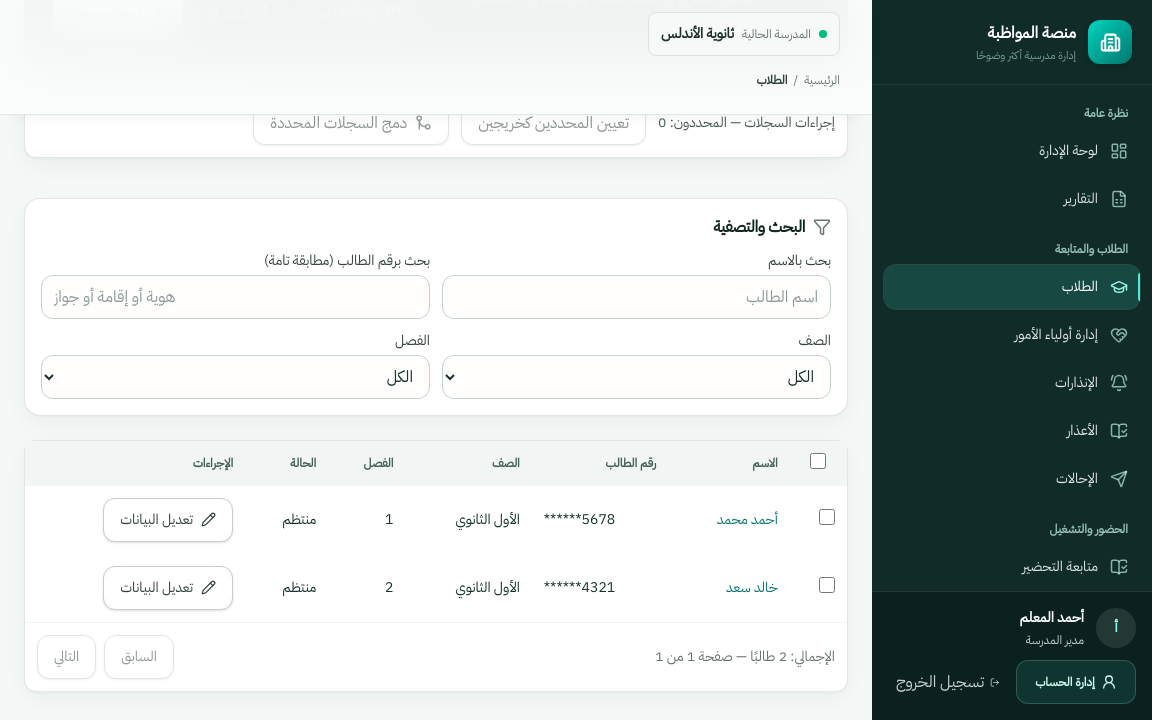
it: StudentsPage › lets the manager correct student data and national id without exposing the old id
(page scrolled)
Step 1. Click the button "تعديل البيانات" in the row of "أحمد محمد" → (168, 520), box [103,498,233,542]
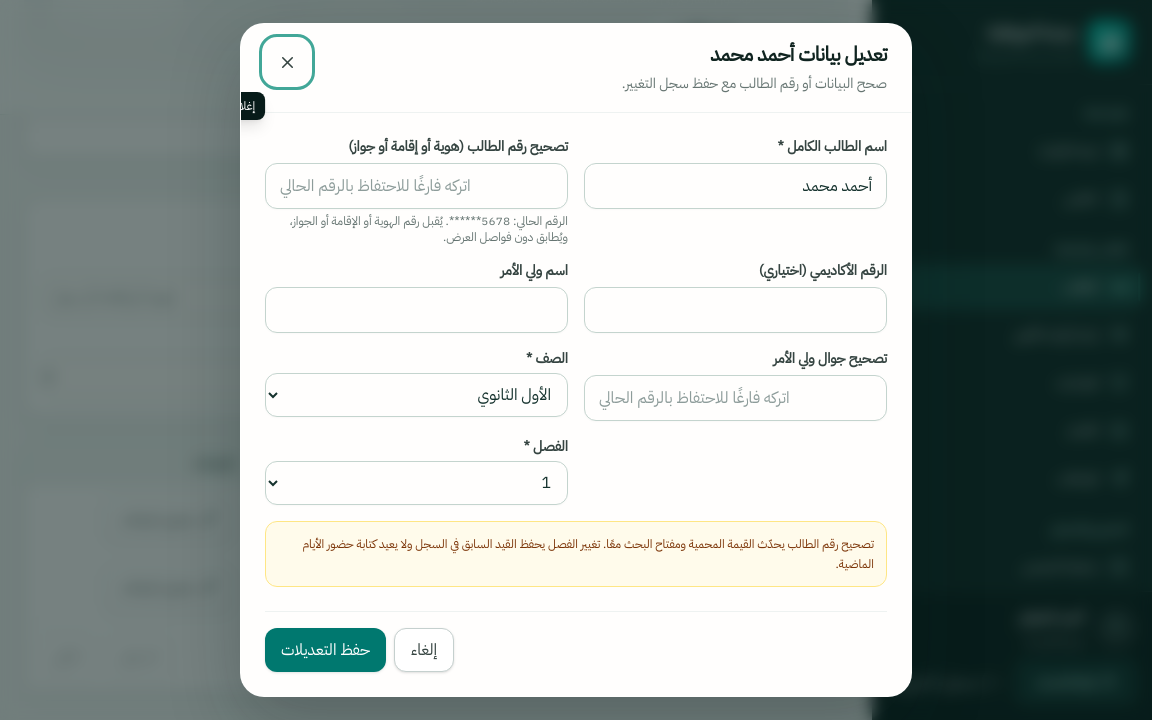
Check: the text "الرقم الحالي:" shows "******5678", box [449,212,510,230]
Step 2. Replace the text in the field labelled "اسم الطالب الكامل *" with "أحمد المصحح" → (736, 186), box [584,163,887,209]
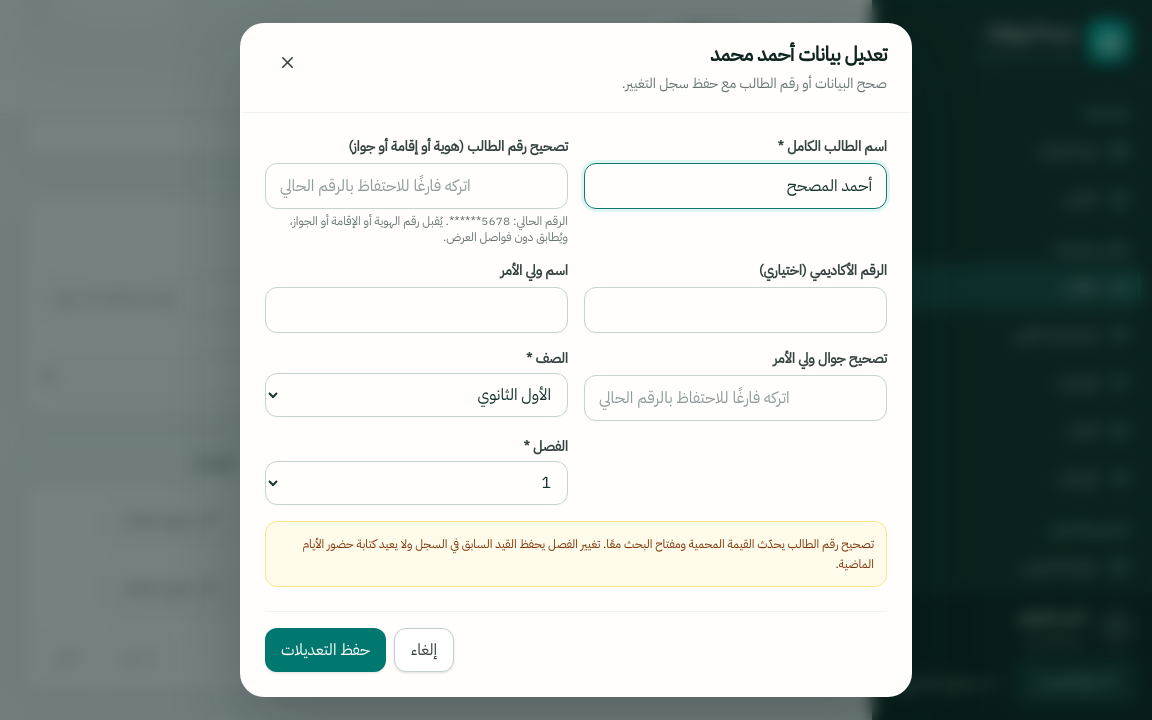
Step 3. Type "٢٠٩٨٧٦٥٤٣٢" into the field labelled "تصحيح رقم الطالب (هوية أو إقامة أو جواز)" → (416, 186), box [265,163,568,209]
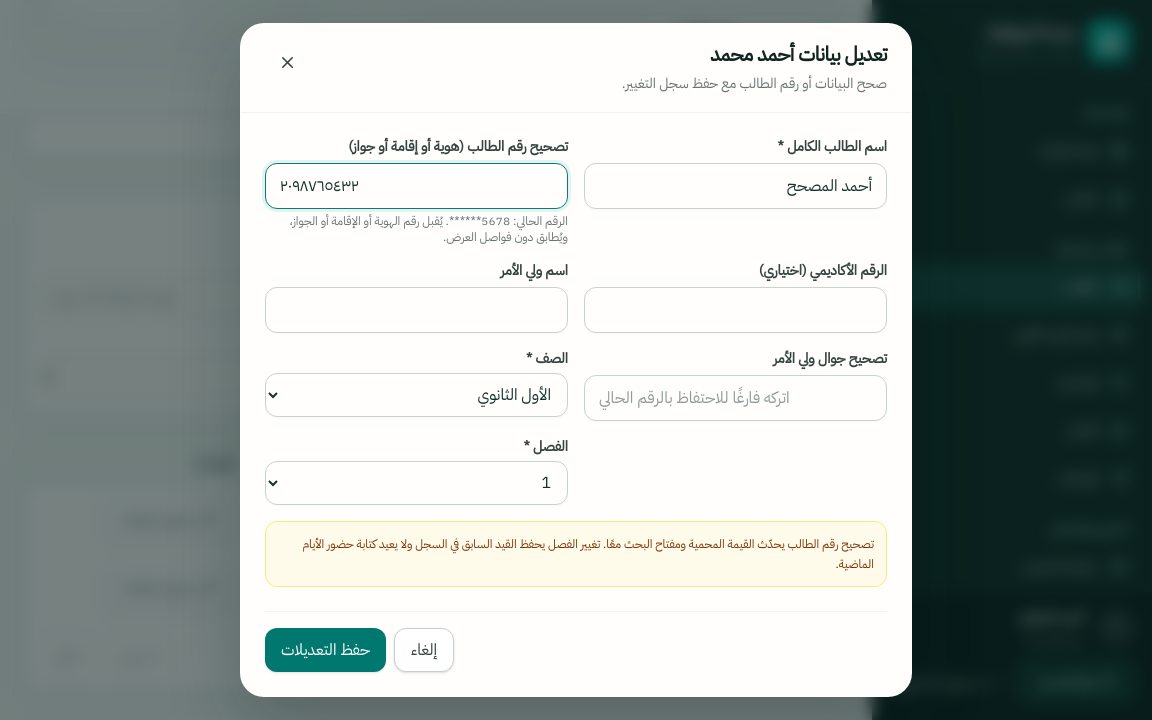
Step 4. Click the button "حفظ التعديلات" → (326, 650), box [265,628,386,672]
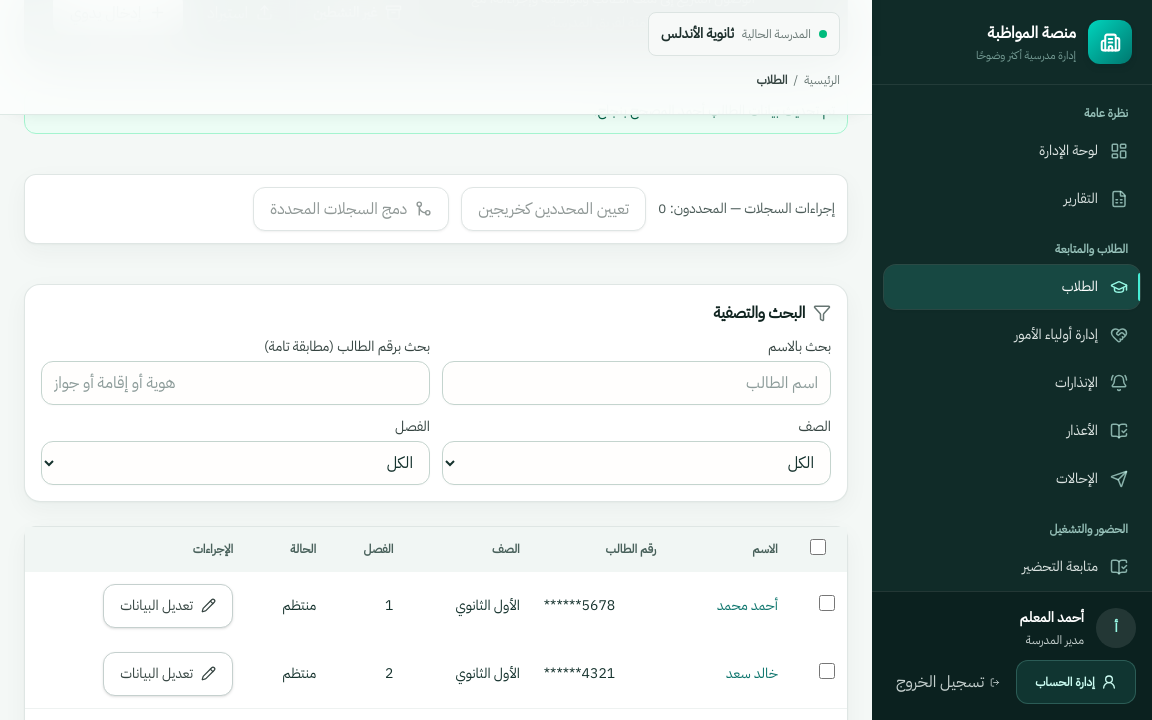
Check: the text "تم تحديث بيانات الطالب أحمد المصحح بنجاح." is shown, box [24,88,848,134]
